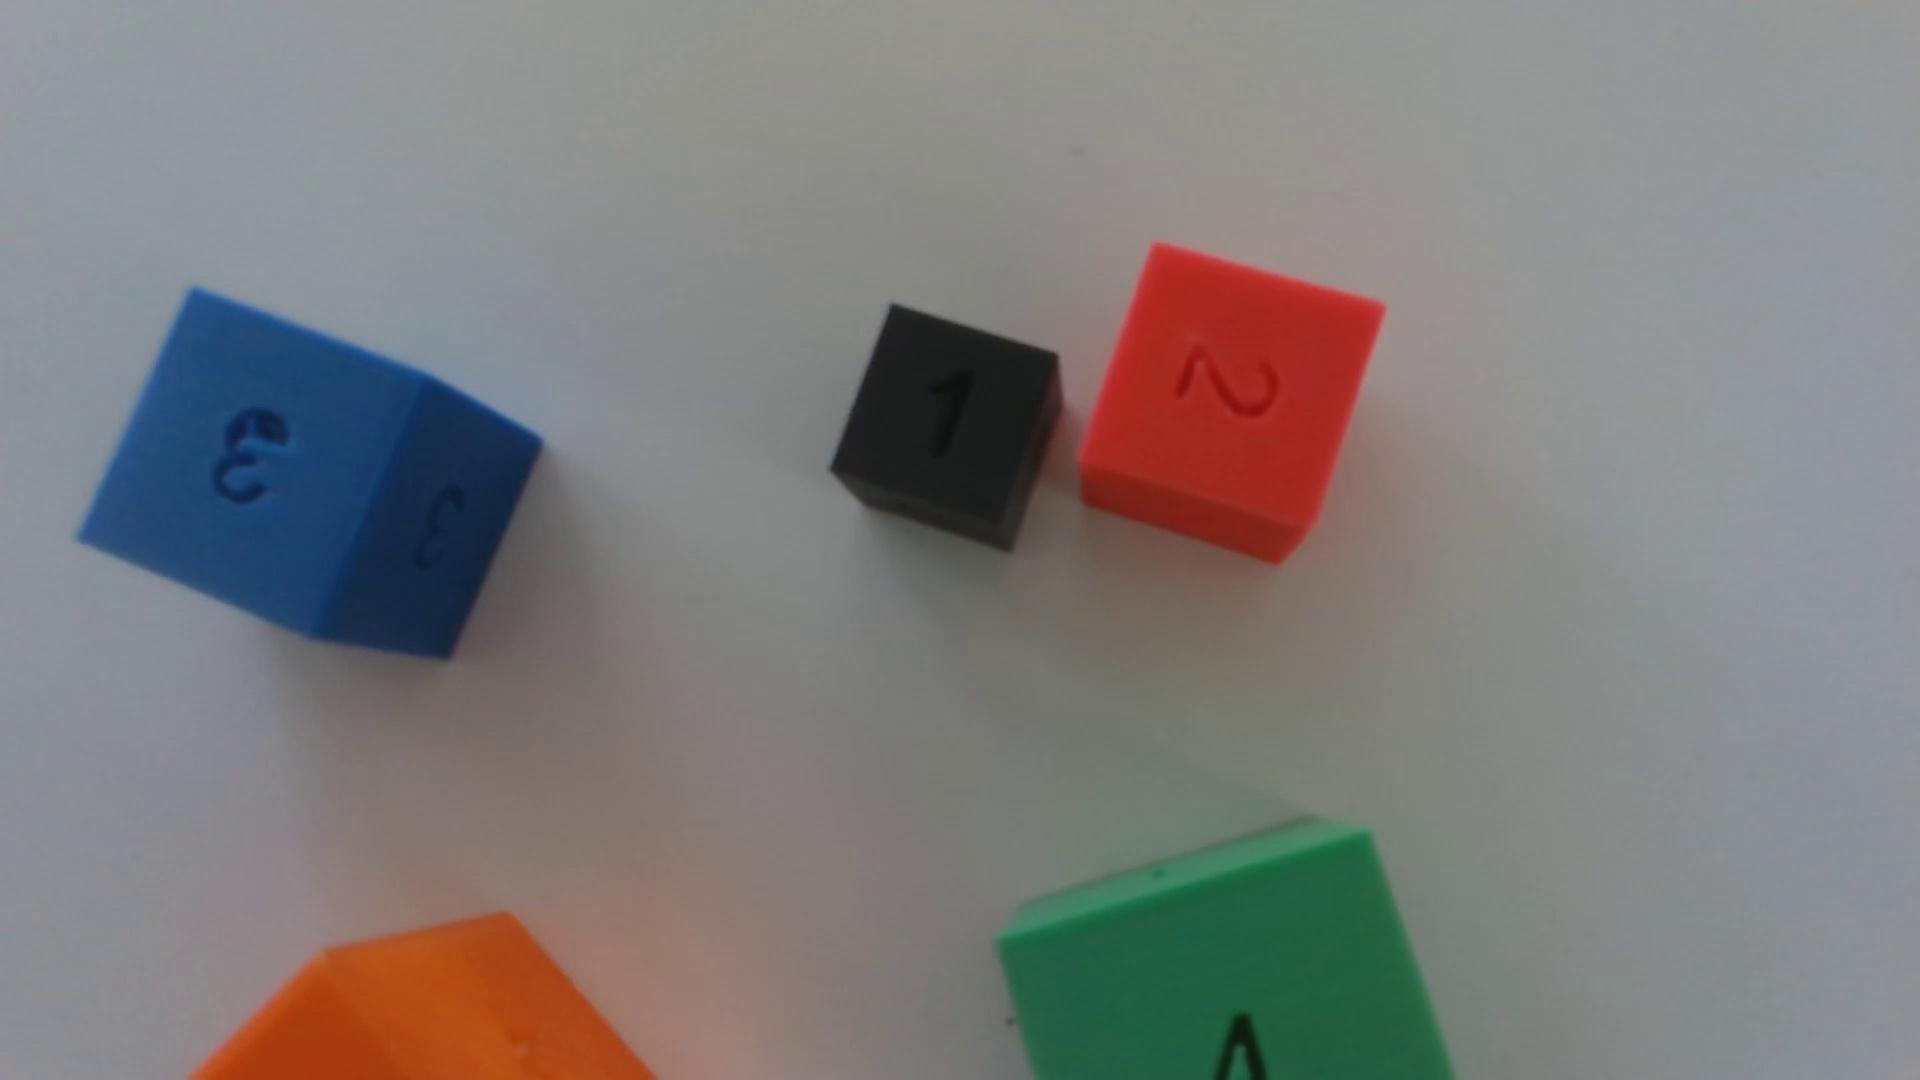black: (829, 305, 1062, 553)
blue: (79, 291, 541, 659)
green: (996, 822, 1453, 1080)
orange: (193, 914, 653, 1080)
red: (1077, 245, 1385, 564)
